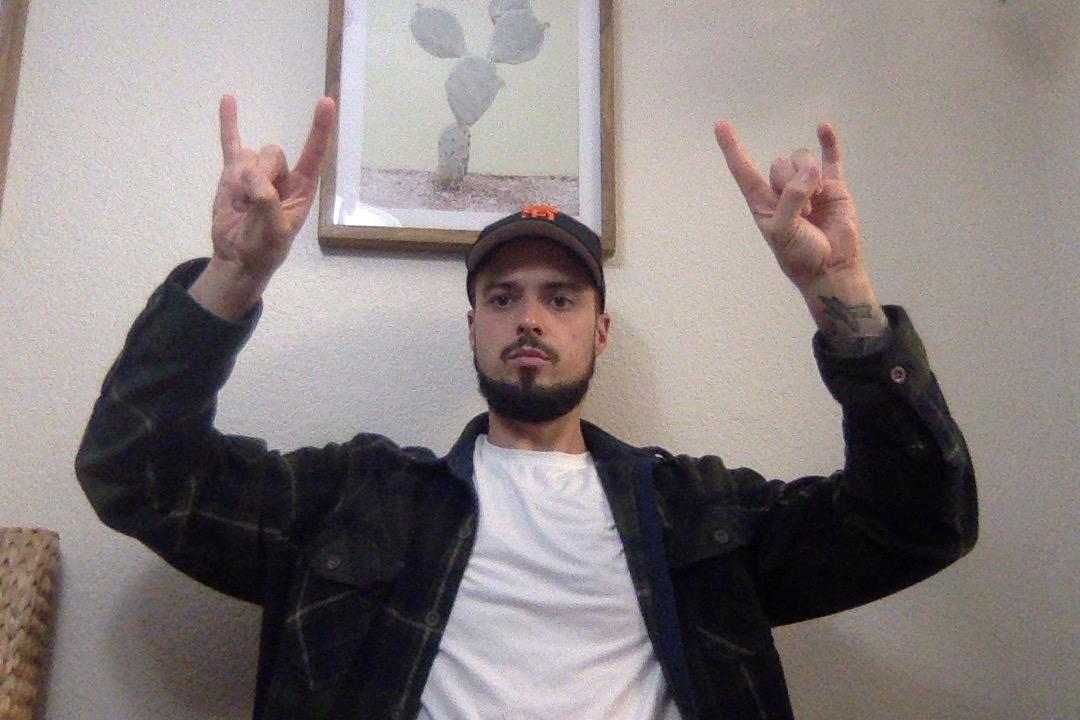Rock: (710, 98, 891, 307), (203, 80, 341, 286)
